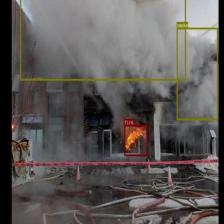fire: (124, 124, 148, 156)
smoke: (19, 0, 186, 80), (176, 27, 218, 120)
